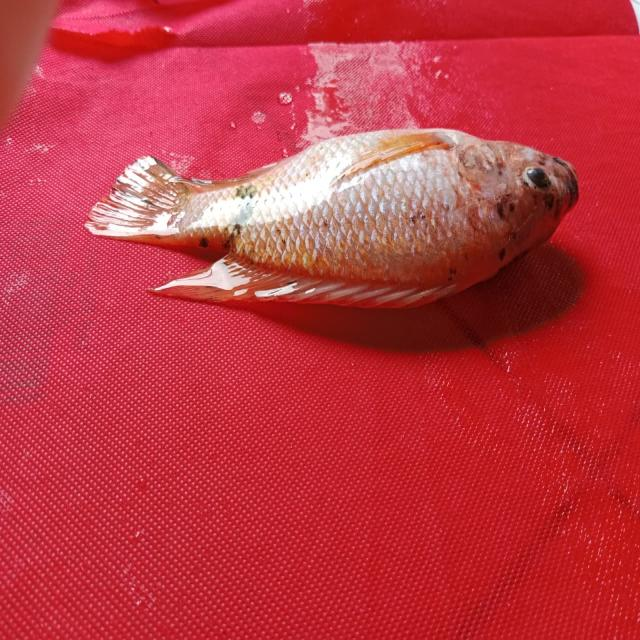ikan: (72, 103, 601, 345)
